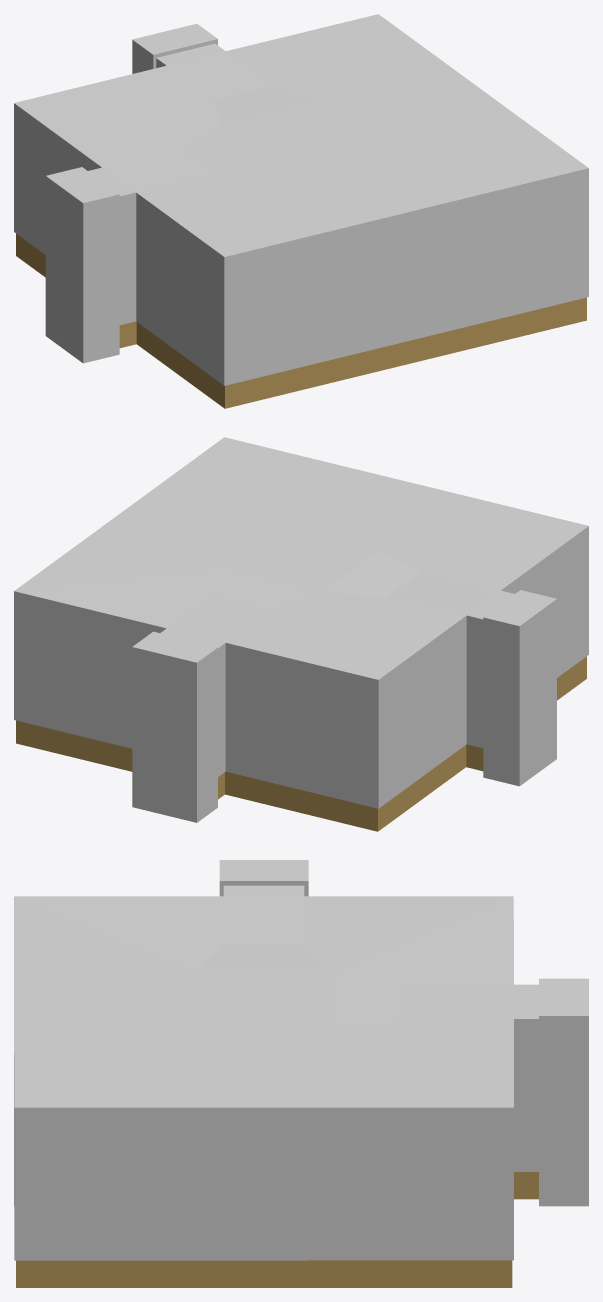
The model's file is gallery_2c.glb.
3 views of the same model, one above another, from view 1: azimuth 30°, elevation 25°; view 2: azimuth 150°, elevation 25°; view 3: azimuth 270°, elevation 25° (orthographic). The views are drawn at different scales.
Parts seen in each view (by area): view 1: Cube.005, trigger.010, trigger.011; view 2: Cube.005, trigger.011, trigger.010; view 3: Cube.005, trigger.011, trigger.010.
Boxes of the visible parts, <box> form: Cube.005: <box>14,14,588,408</box>; trigger.010: <box>45,167,119,363</box>; trigger.011: <box>132,23,217,73</box>; Cube.005: <box>14,437,588,831</box>; trigger.011: <box>132,631,217,822</box>; trigger.010: <box>483,590,556,786</box>; Cube.005: <box>14,885,538,1287</box>; trigger.011: <box>539,978,588,1206</box>; trigger.010: <box>219,860,308,896</box>.
Bounding box in the file's own units: 11.5 × 4.2 × 11.51.
